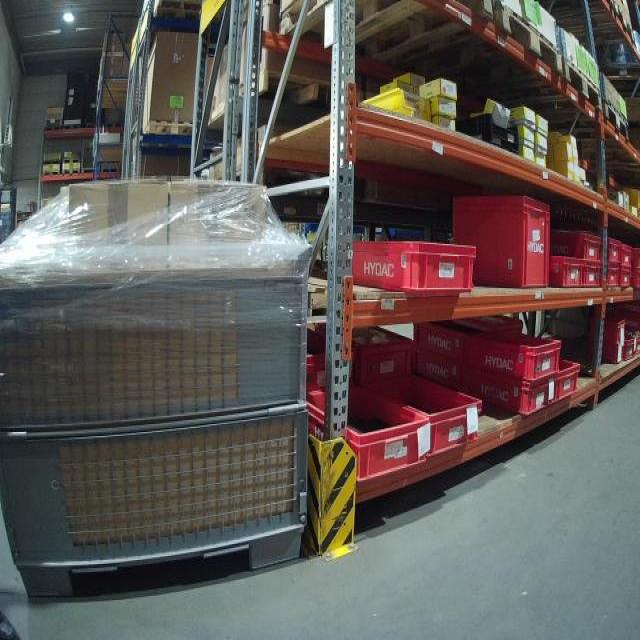pallet: (275, 5, 499, 117), (494, 2, 564, 122), (568, 2, 631, 49), (559, 58, 602, 122), (602, 98, 635, 150), (62, 169, 81, 176), (42, 171, 59, 177), (62, 158, 81, 163)
small_load_carrier: (305, 389, 432, 485), (450, 192, 548, 292), (344, 234, 476, 294), (396, 380, 485, 460), (409, 313, 525, 359), (328, 327, 417, 384), (468, 333, 566, 377), (472, 362, 554, 410), (411, 352, 480, 399), (305, 327, 338, 388), (592, 323, 629, 371), (553, 232, 605, 264), (554, 351, 580, 392), (548, 258, 583, 285), (596, 319, 627, 344), (600, 265, 621, 291), (586, 264, 605, 290), (604, 237, 621, 265), (619, 268, 635, 291), (621, 339, 636, 363), (632, 247, 639, 291), (622, 246, 632, 266)
stillage: (1, 253, 319, 608)
